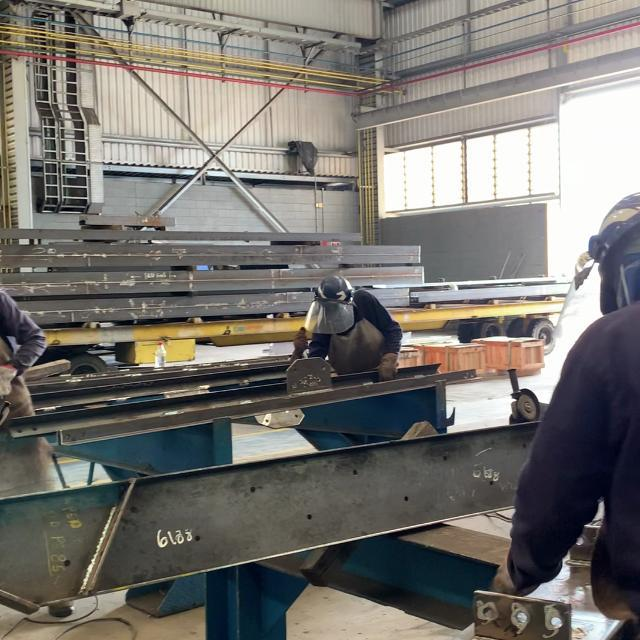eye-glass: (553, 256, 600, 338), (304, 300, 356, 335)
face-shield: (486, 568, 518, 600), (375, 354, 402, 380), (2, 375, 17, 389)
glove: (598, 188, 635, 229), (314, 275, 358, 301)
mask: (488, 193, 637, 592), (291, 276, 401, 390), (3, 285, 52, 399)
